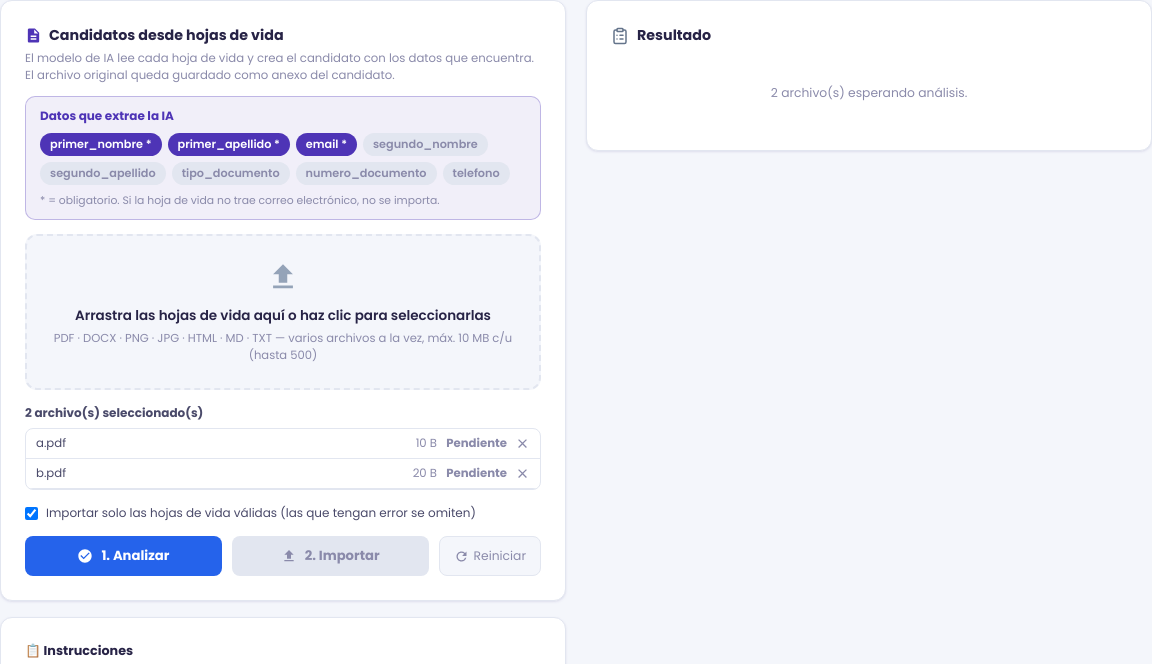
Scenario: ImportacionCV › quitar un archivo de la lista invalida el análisis anterior
This screenshot has width=1152, height=664.
Earlier steps of the test are not shown.
Step 1. Click the button "1. Analizar" → [123, 556], box [25, 536, 222, 576]
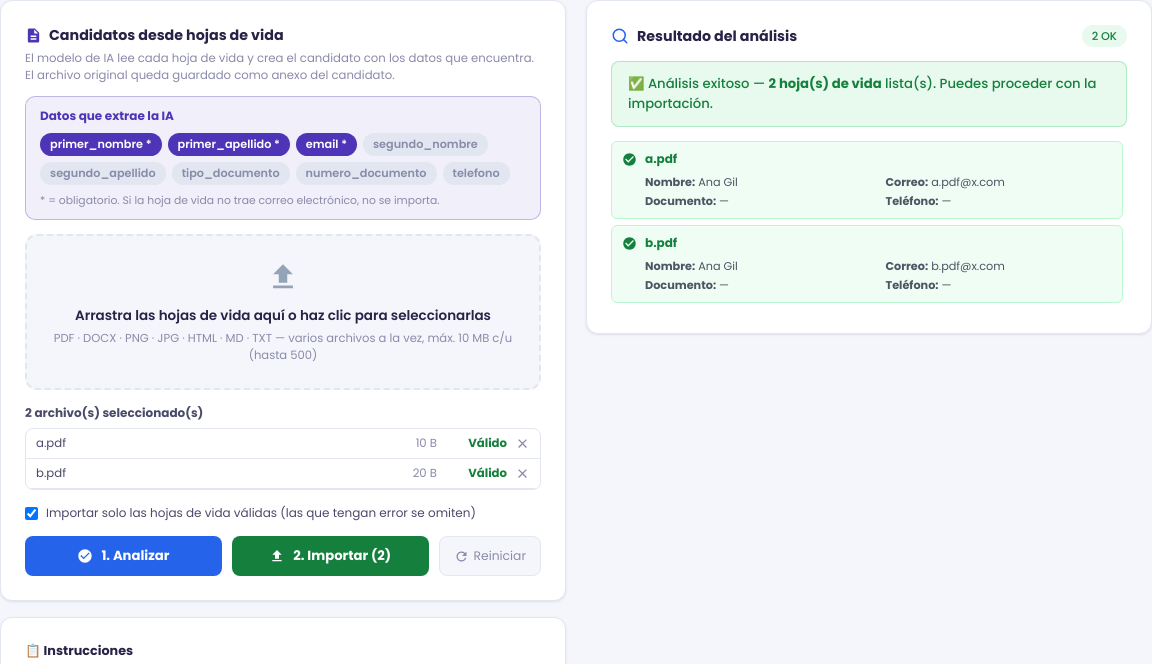
Check: the text "2 OK" is shown, box [1082, 25, 1127, 47]
Step 2. Click the button named "Quitar a.pdf" → [522, 444], box [515, 436, 530, 451]
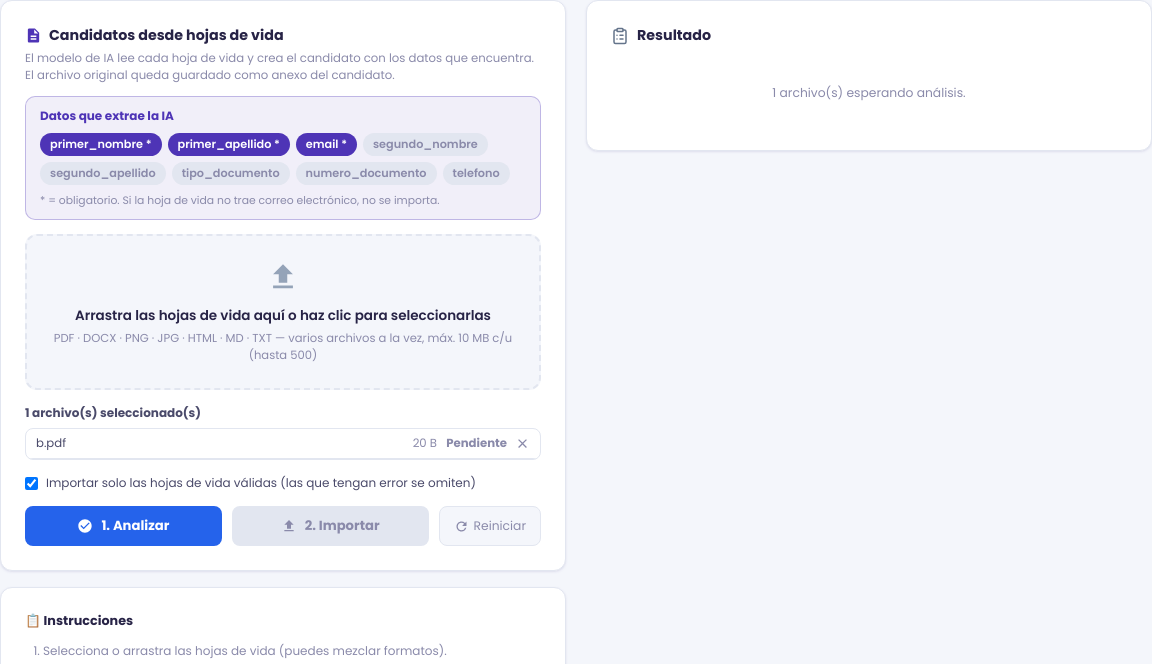
Check: the text "2 OK" is gone
Check: the button "2. Importar" is disabled, box [232, 506, 429, 546]
